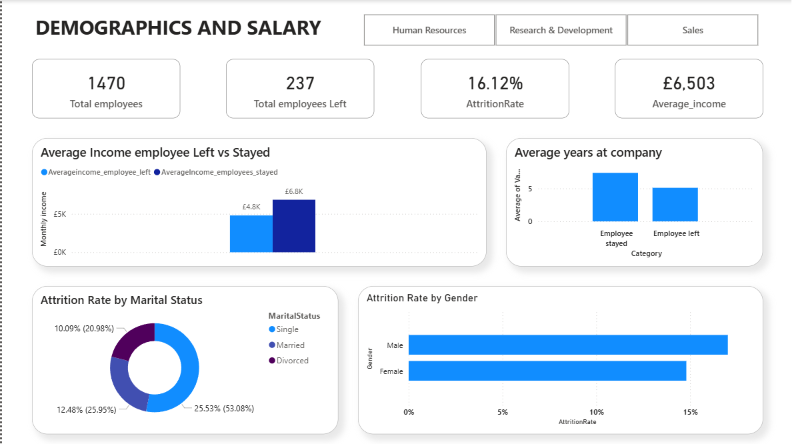

What the dashboard file says about the page in this screenshot:
{"tool":"powerbi","page":{"name":"Page 3","canvas":[1280,720],"ordinal":2},"visuals":[{"type":"slicer","fields":{"Values":["HRdata_attrition.Department"]},"box":[560,16,688,64],"z":0},{"type":"card","fields":{"Values":["Measure Table.Total employees"]},"box":[48,96,240,96],"z":0,"group":"g1"},{"type":"clusteredColumnChart","title":"Average years at company","fields":{"Category":["TenureComparison.Category"],"Y":["Avg(TenureComparison.Value)"]},"box":[816,224,416,208],"z":0,"group":"g2"},{"type":"textbox","box":[48,16,496,64],"z":1000},{"type":"card","fields":{"Values":["Measure Table.Total employees Left"]},"box":[362.7,96,240,96],"z":1000,"group":"g1"},{"type":"clusteredColumnChart","title":"Average Income employee Left vs Stayed","fields":{"Y":["Measure Table.Averageincome_people_left","Measure Table.AverageIncome_People_stayed"]},"box":[48,224,736,208],"z":1000,"group":"g2"},{"type":"group","id":"g1","title":"CARDS","box":[48,96,1184,96],"z":2000},{"type":"card","fields":{"Values":["Measure Table.Average_income"]},"box":[992,96,240,96],"z":2000,"group":"g1"},{"type":"clusteredBarChart","title":"Attrition Rate by Gender","fields":{"Category":["HRdata_attrition.Gender"],"Y":["Measure Table.AttritionRate"]},"box":[576,464,656,240],"z":2000,"group":"g2"},{"type":"card","fields":{"Values":["Measure Table.AttritionRate"]},"box":[677.3,96,240,96],"z":3000,"group":"g1"},{"type":"group","id":"g2","title":"Charts","box":[48,224,1184,480],"z":3000},{"type":"donutChart","title":"Attrition Rate by Marital Status","fields":{"Category":["HRdata_attrition.MaritalStatus"],"Y":["Measure Table.AttritionRate"]},"box":[48,464,496,240],"z":3000,"group":"g2"}]}

Visuals, with their boxes in screenshot pixels (x1, y1, x2, y2), scaled from the page's 1280x720 canvas onto the 792x445 screenshot:
slicer - HRdata_attrition.Department: [x1=346, y1=10, x2=772, y2=49]
card - Measure Table.Total employees: [x1=30, y1=59, x2=178, y2=119]
"Average years at company" clusteredColumnChart: [x1=505, y1=138, x2=762, y2=267]
textbox: [x1=30, y1=10, x2=337, y2=49]
card - Measure Table.Total employees Left: [x1=224, y1=59, x2=373, y2=119]
"Average Income employee Left vs Stayed" clusteredColumnChart: [x1=30, y1=138, x2=485, y2=267]
"CARDS" group: [x1=30, y1=59, x2=762, y2=119]
card - Measure Table.Average_income: [x1=614, y1=59, x2=762, y2=119]
"Attrition Rate by Gender" clusteredBarChart: [x1=356, y1=287, x2=762, y2=435]
card - Measure Table.AttritionRate: [x1=419, y1=59, x2=568, y2=119]
"Charts" group: [x1=30, y1=138, x2=762, y2=435]
"Attrition Rate by Marital Status" donutChart: [x1=30, y1=287, x2=337, y2=435]
